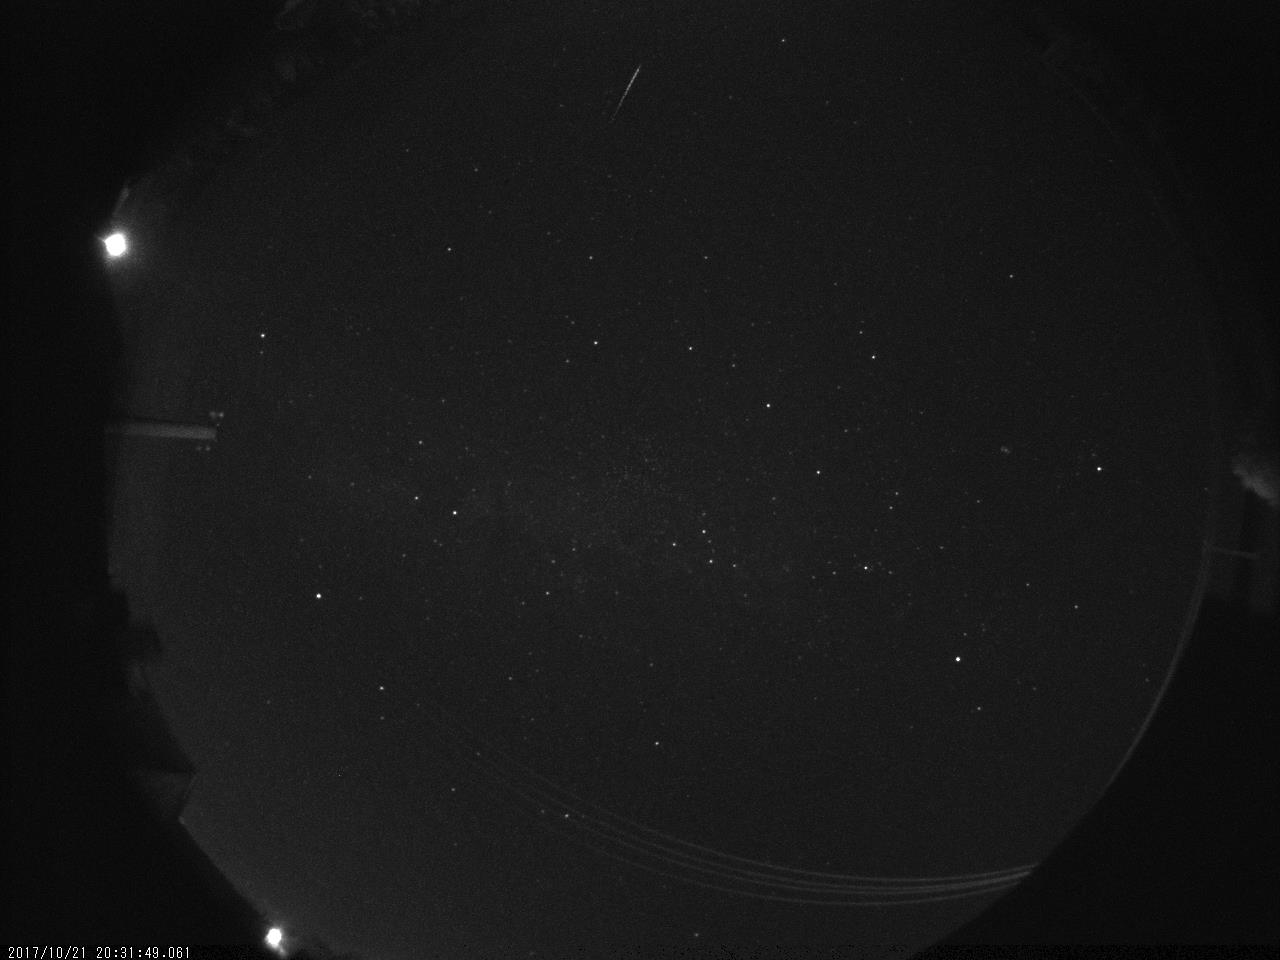meteor: (598, 51, 656, 138)
